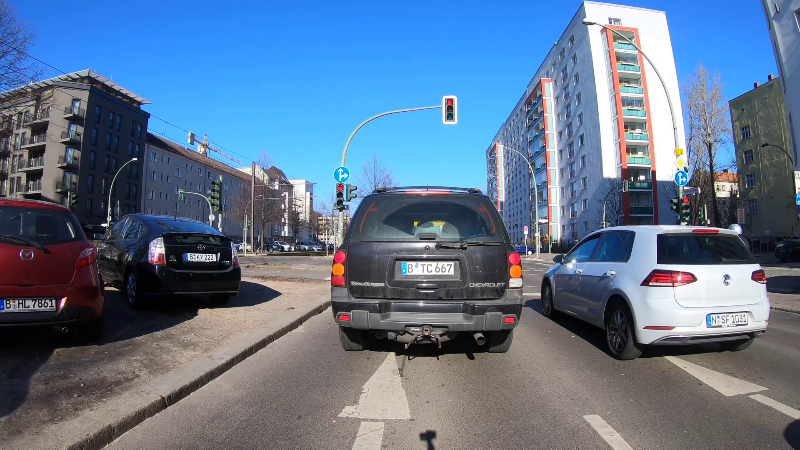Plate: (397, 259, 457, 277), (1, 296, 62, 312), (702, 310, 752, 325), (177, 251, 220, 266)
